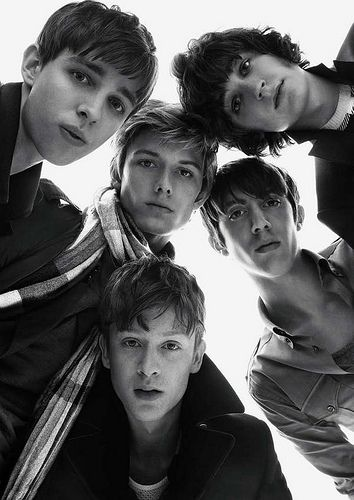person: (97, 249, 203, 482), (25, 2, 140, 193), (111, 102, 218, 267), (197, 171, 330, 290), (183, 45, 336, 143)
